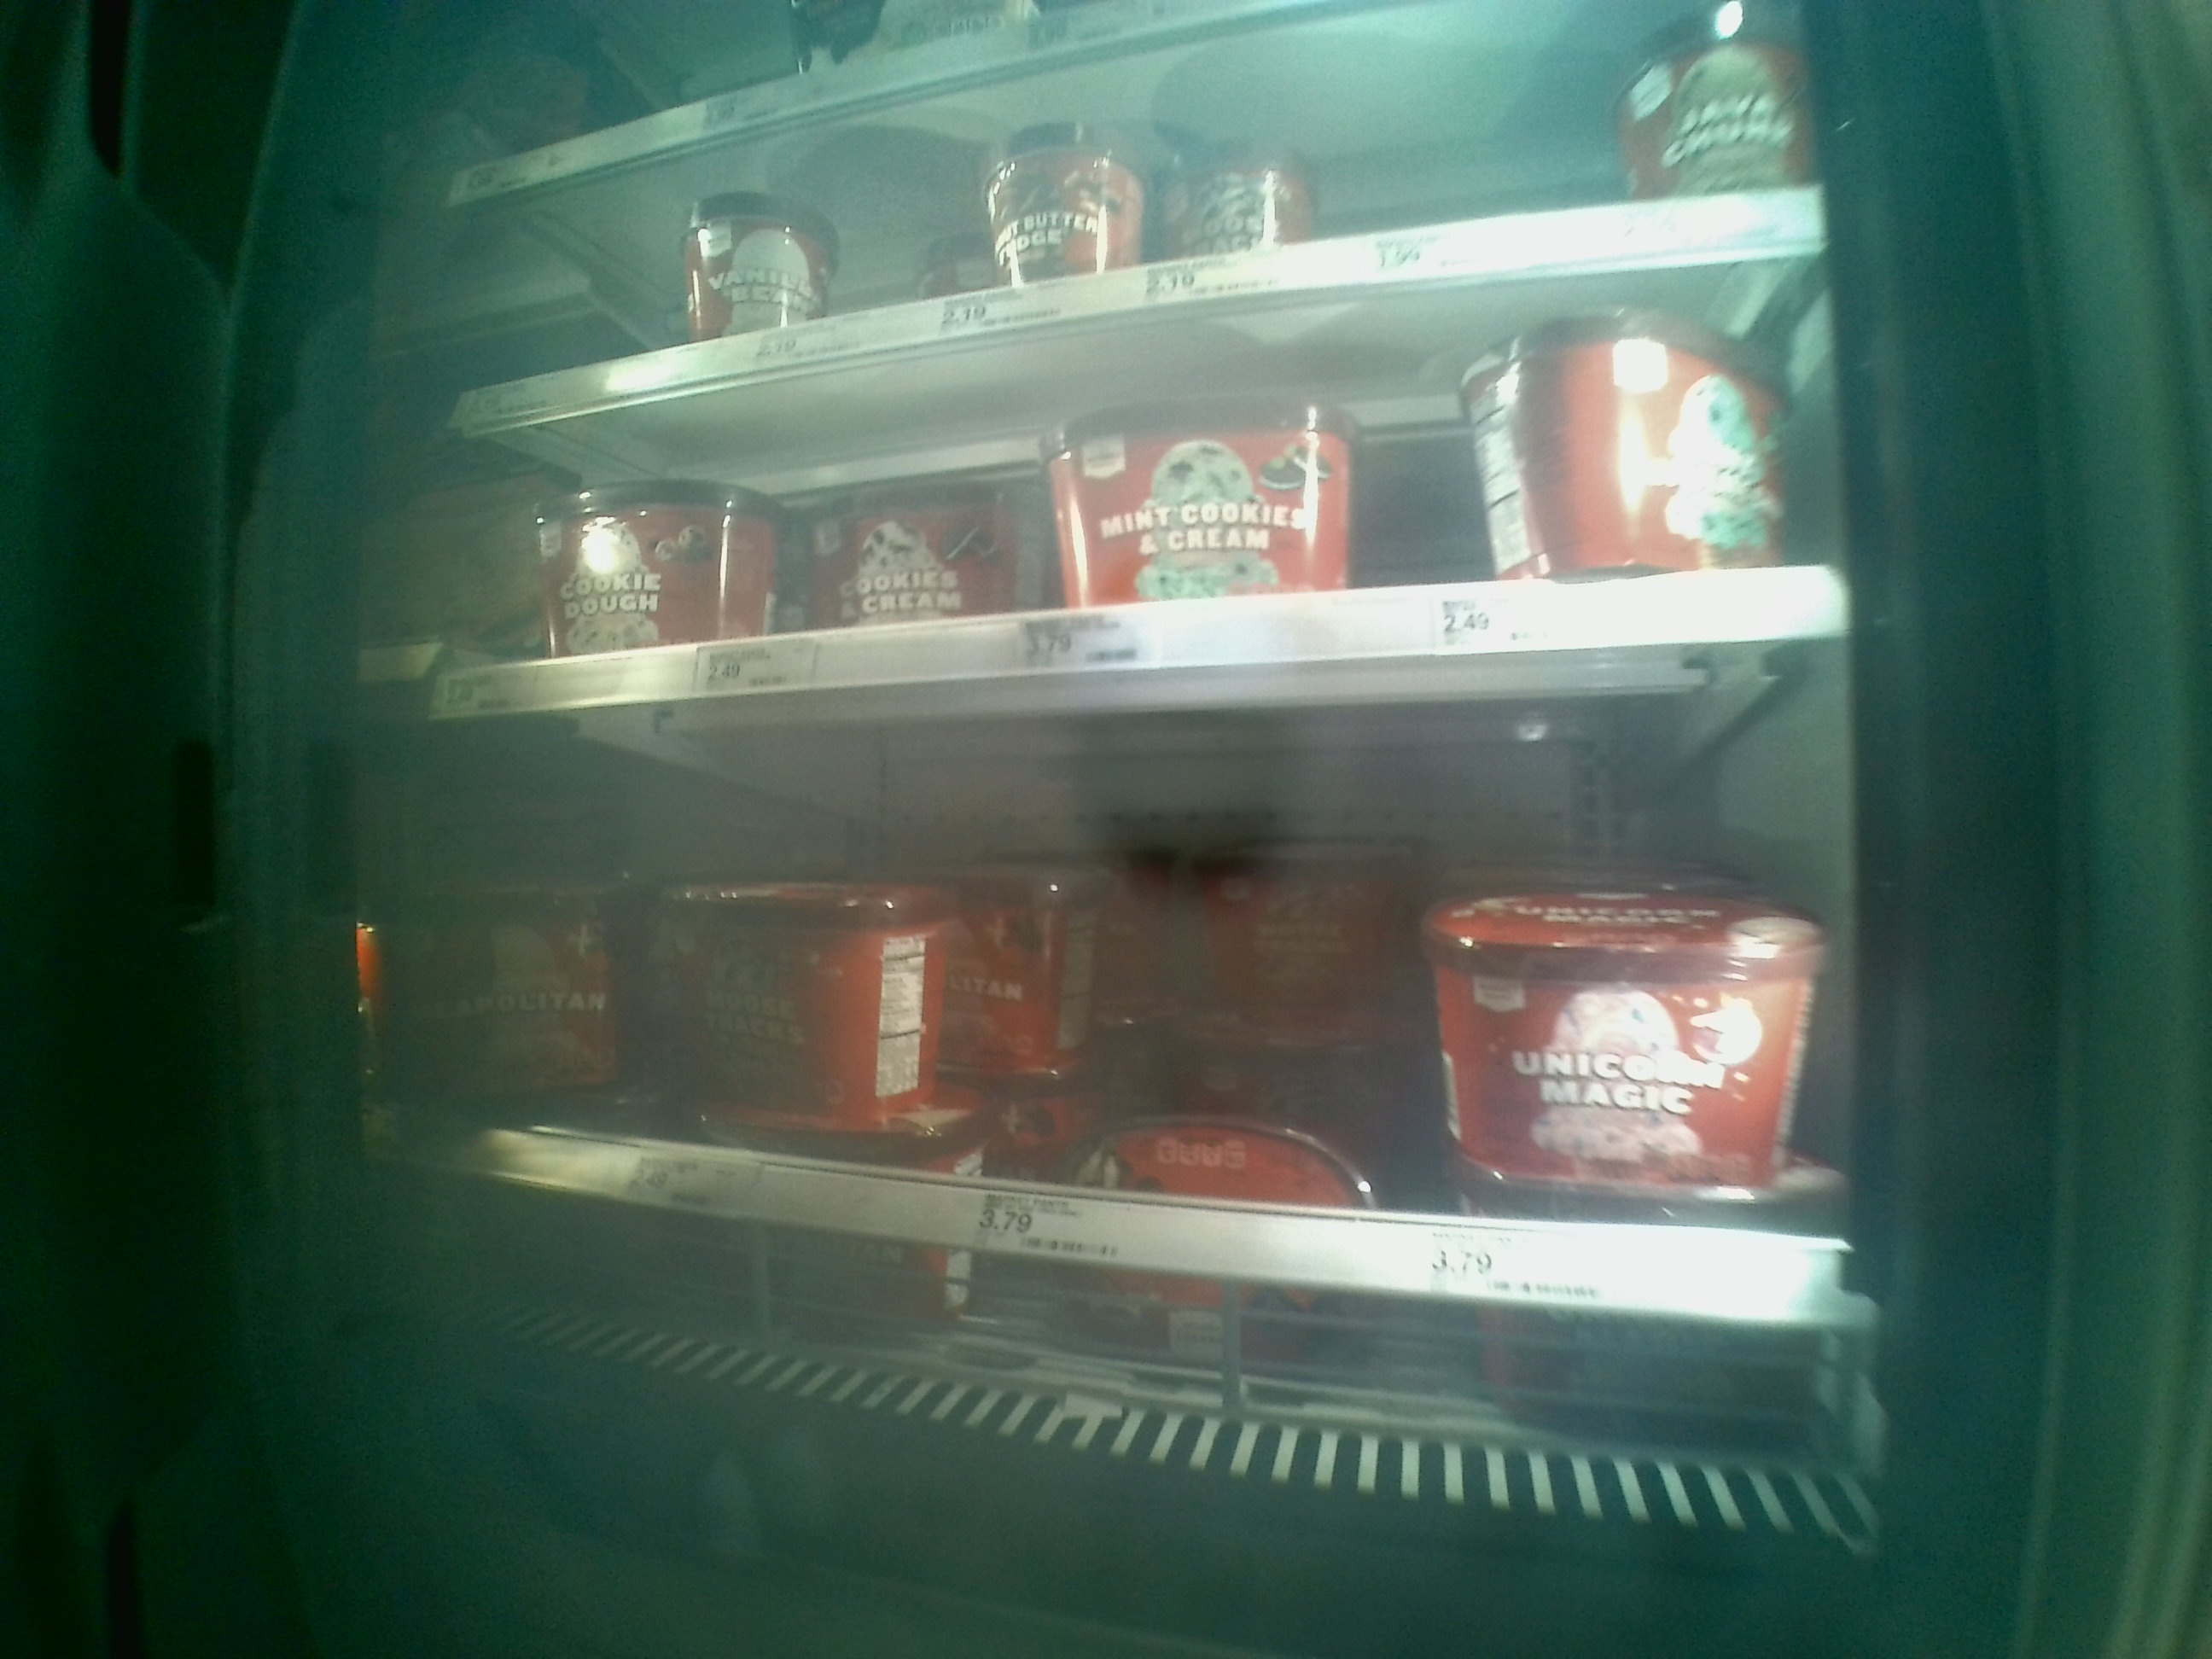shelf: (359, 641, 1871, 1507), (425, 242, 1839, 716)
